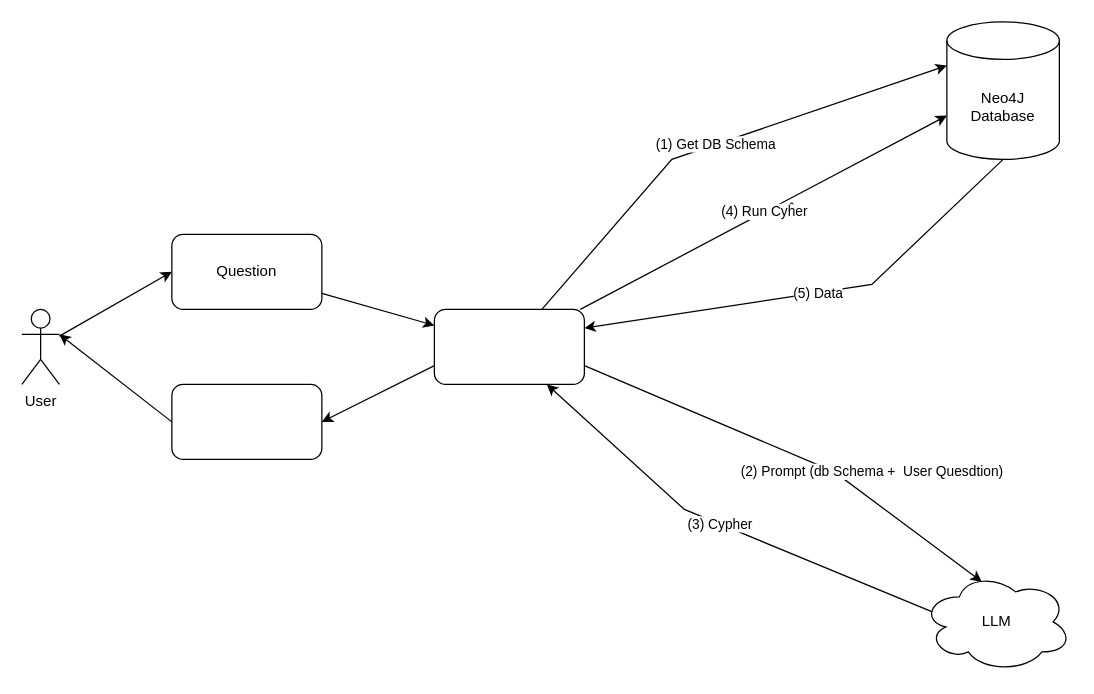
Some shapes in this 1094 by 694 pixel diagram are drawn without their labels. The shapes that lost their labels are listed below. From the top down, each one's centre as x and y in pixels, then its label:
At (508,346): "Agent (Python Script)".
At (246,421): "Table of data".
